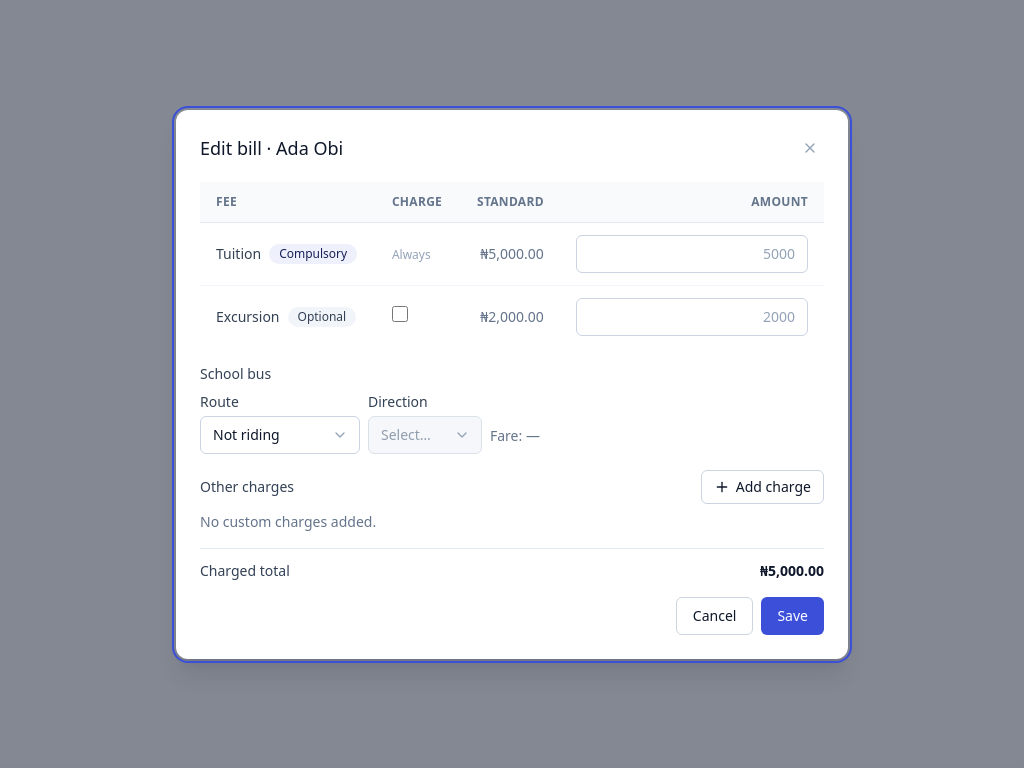
Test: StudentBillAdjustmentsModal › rejects saving a route with no chosen direction
Select "Ikeja" in the dropdown labelled "Route" at (280, 434), box [200, 416, 360, 454]
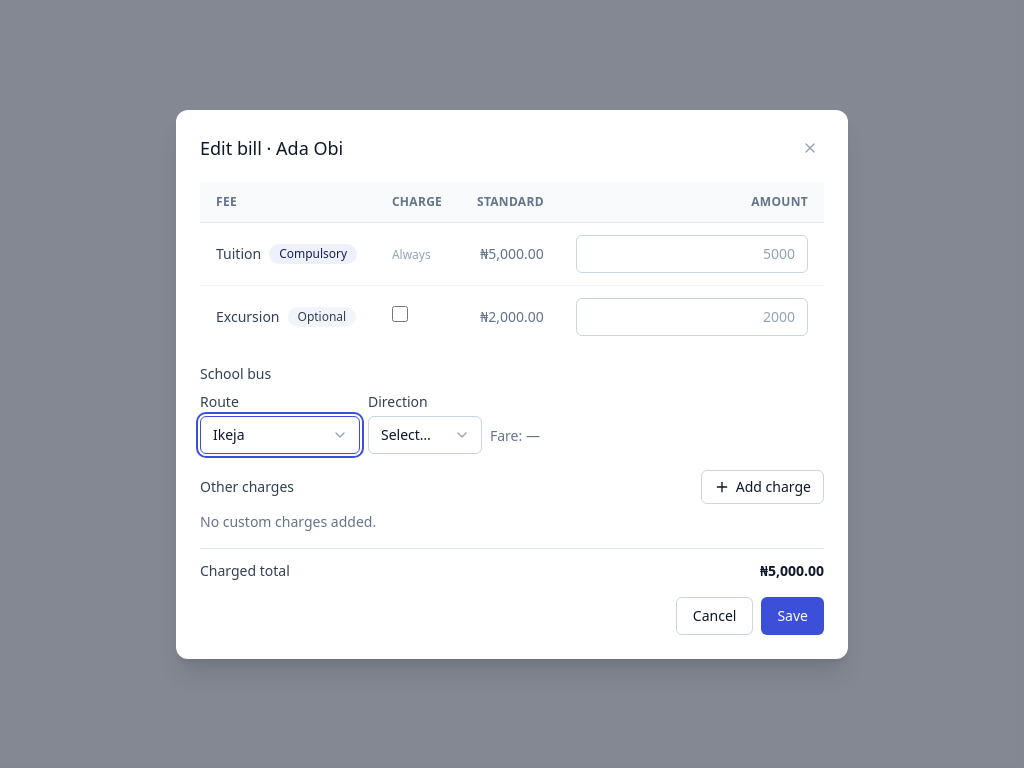
Click the button "Save" at (793, 616), box [761, 596, 824, 634]
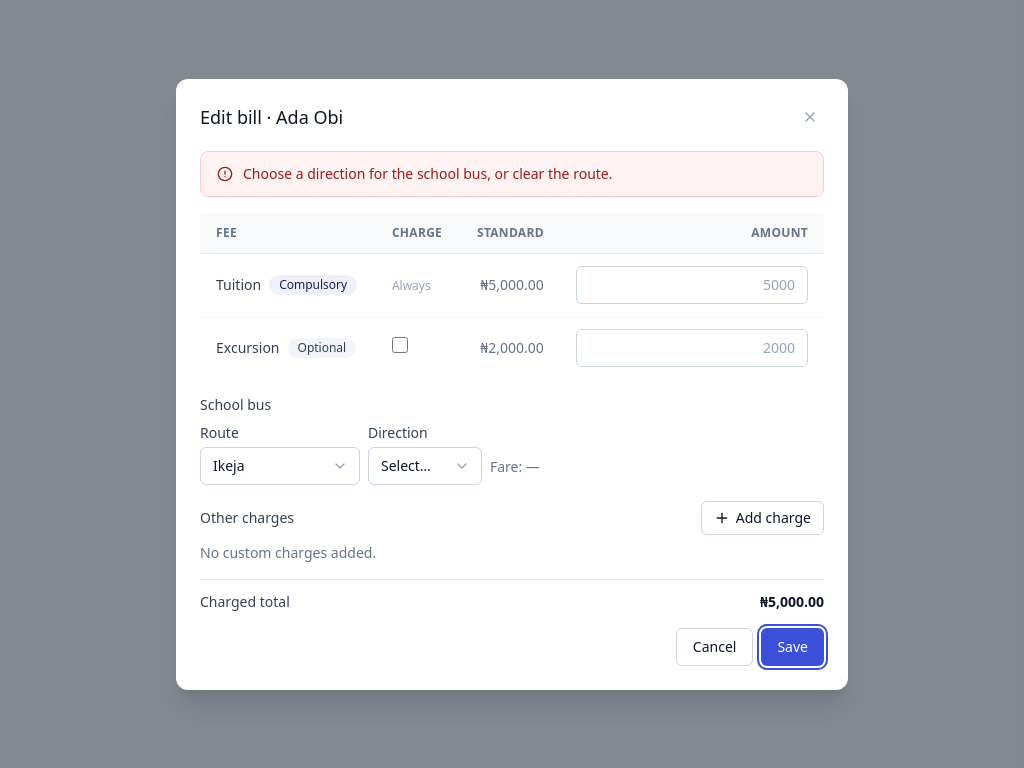
Expected: the text "Choose a direction for the school bus, or clear the route." is shown, [243, 164, 612, 184]
